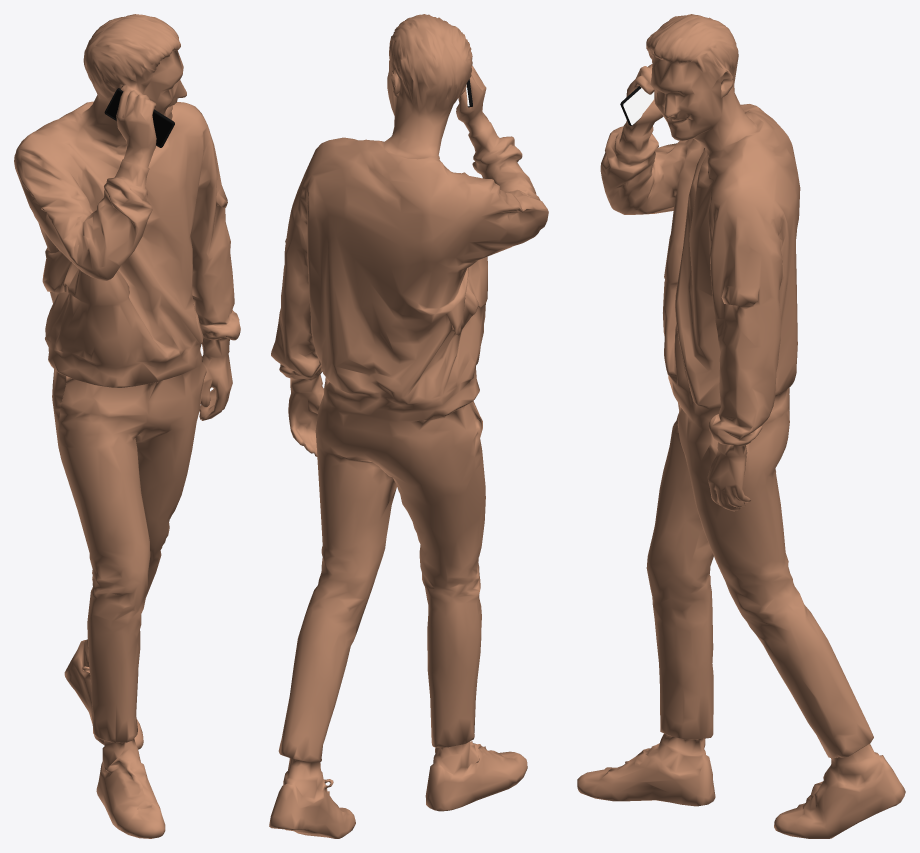
The model's file is char_ivan.glb.
3 renders of one model, left to right at view 1: azimuth 30°, elevation 25°; view 2: azimuth 150°, elevation 25°; view 3: azimuth 270°, elevation 25°, orthographic. The views are drawn at different scales.
Parts seen in each view (by area): view 1: Ivan_1304_COR; view 2: Ivan_1304_COR; view 3: Ivan_1304_COR.
Boxes of the visible parts, x1,y1,x2,y2 form: Ivan_1304_COR: (14, 14, 240, 838); Ivan_1304_COR: (269, 14, 548, 838); Ivan_1304_COR: (577, 14, 905, 838).
Bounding box in the file's own units: 0.5704 × 1.88 × 0.7107.
